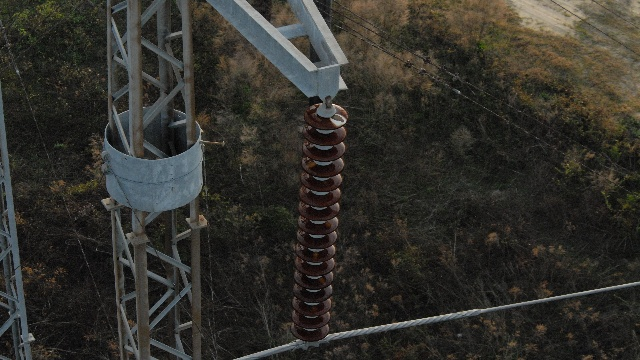insulator_unspecified: (291, 102, 349, 341)
pollution_flashover_local: (332, 112, 347, 126), (305, 160, 317, 168), (319, 274, 327, 286), (326, 220, 336, 227), (312, 252, 321, 259)
